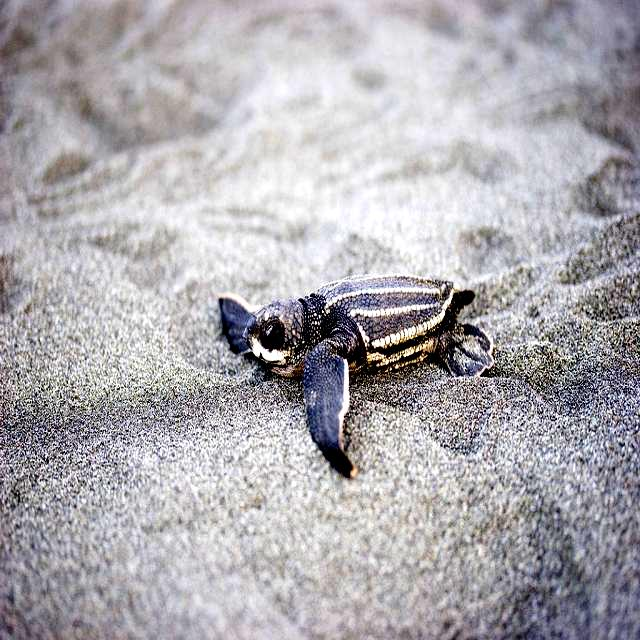Sea turtle: (206, 273, 499, 472)
